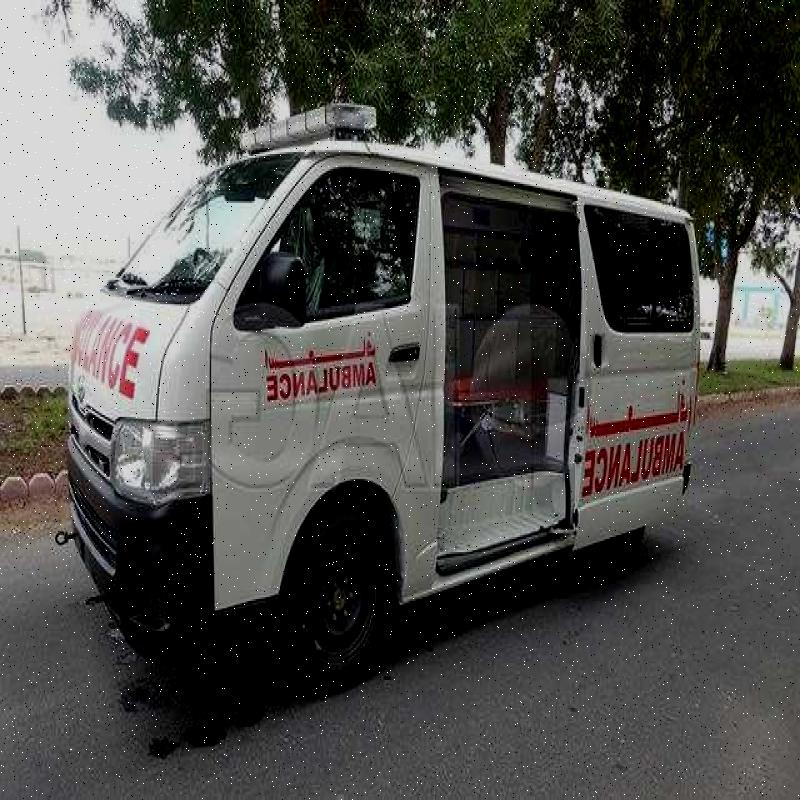AmbulanceSiren: (210, 77, 411, 168)
